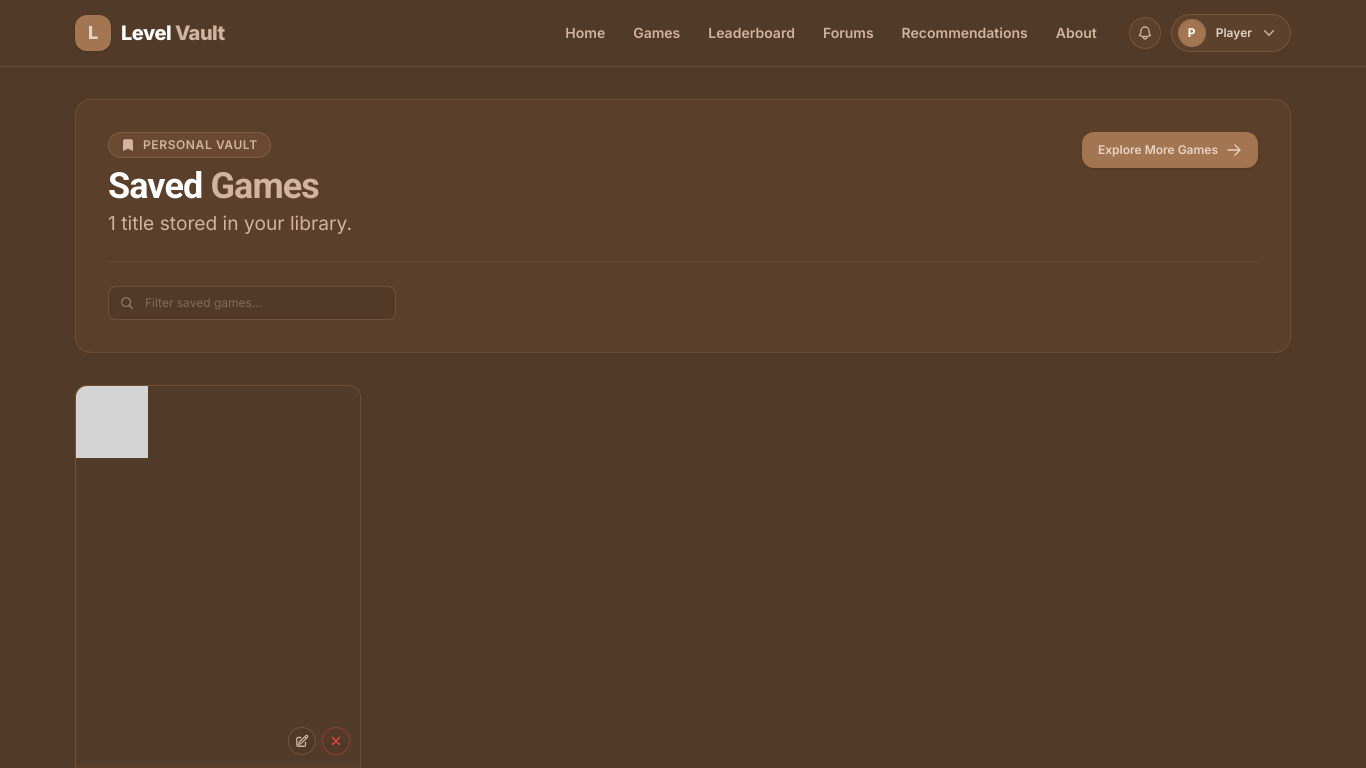
Test: FavoritesPage › Review modal › opens with empty fields for a game with no existing review
The width and height of the screenshot is (1366, 768).
Click the button titled "Write a review" at (302, 741), box [288,727,316,755]
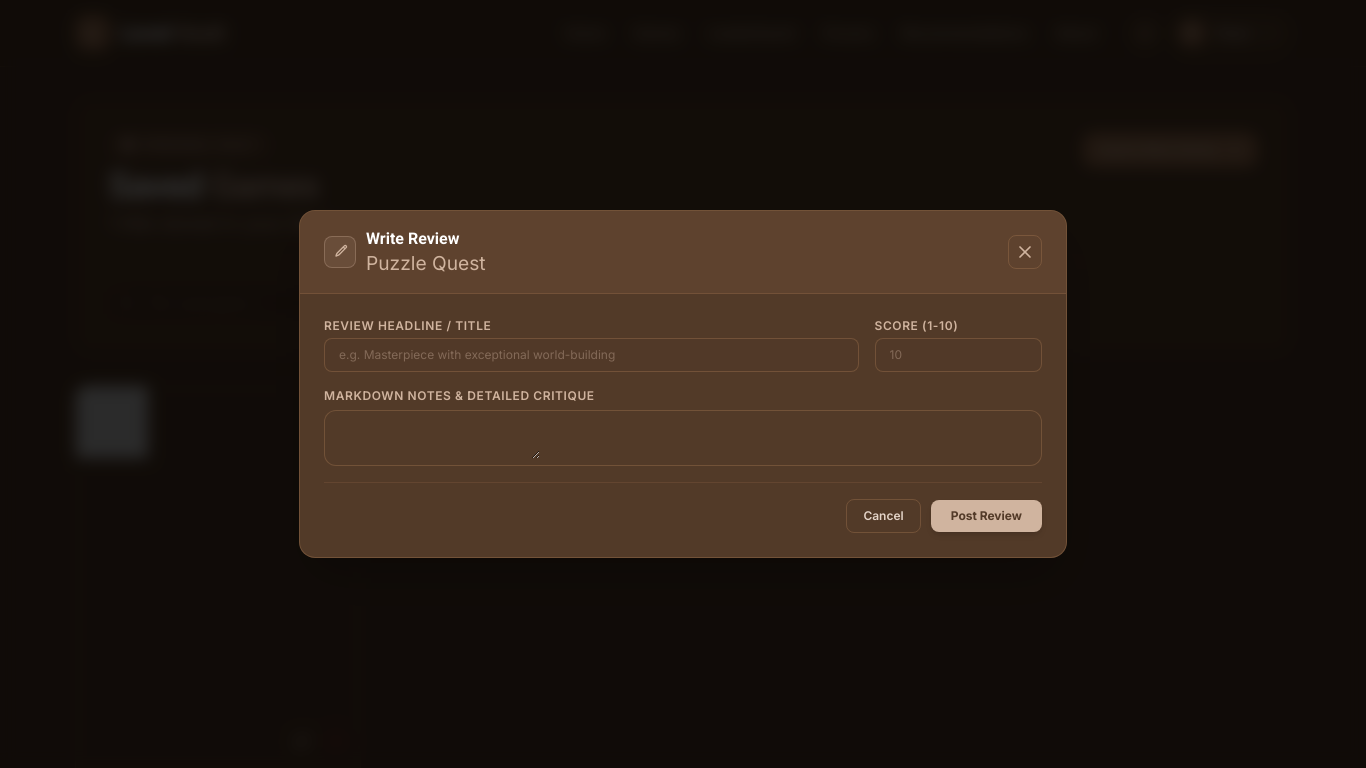
Expected: the heading "Write Review" is shown, [366,229,460,248]
Expected: the text box with test id "md-editor" is empty, [325,411,540,459]
